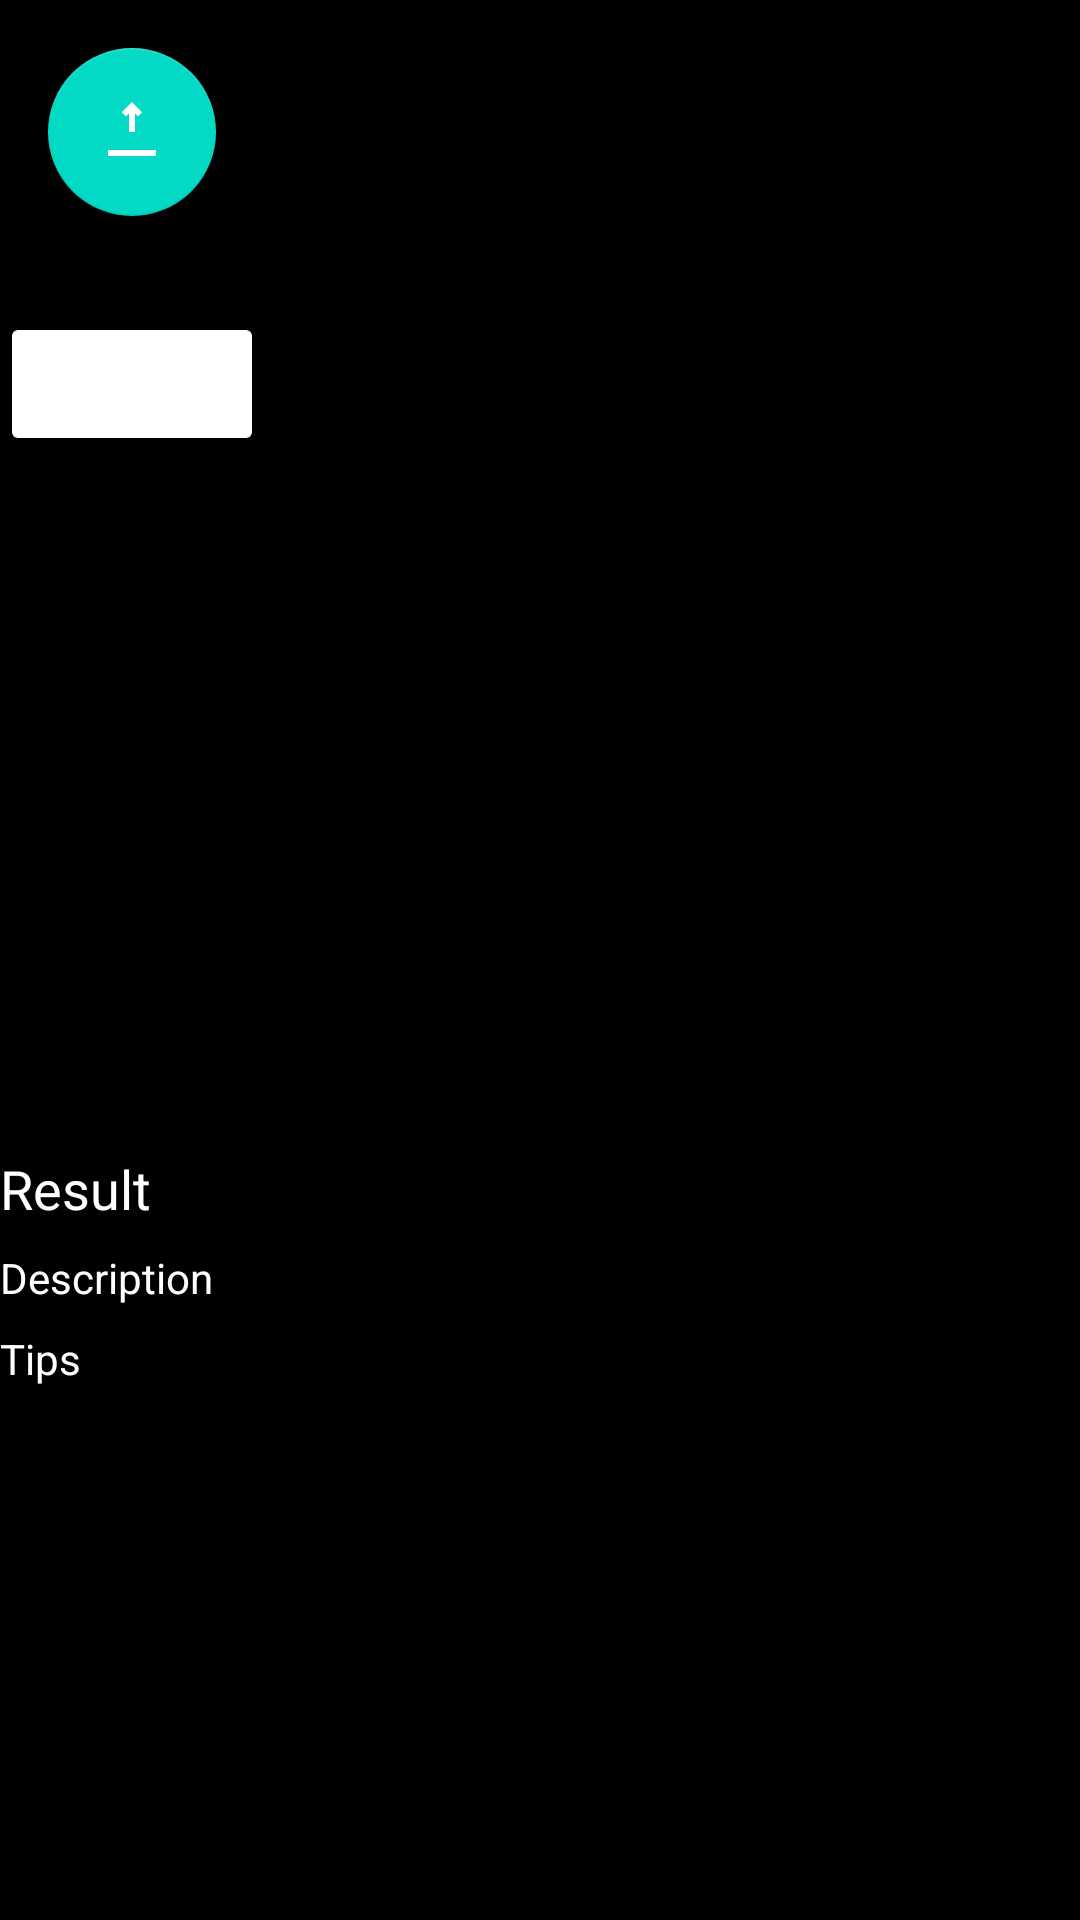

Where icons sit on this 1080×1920 app screen, as (x1=x1, y1=y1, x2=x2, y2=y2):
upload: (x1=48, y1=48, x2=216, y2=216)
